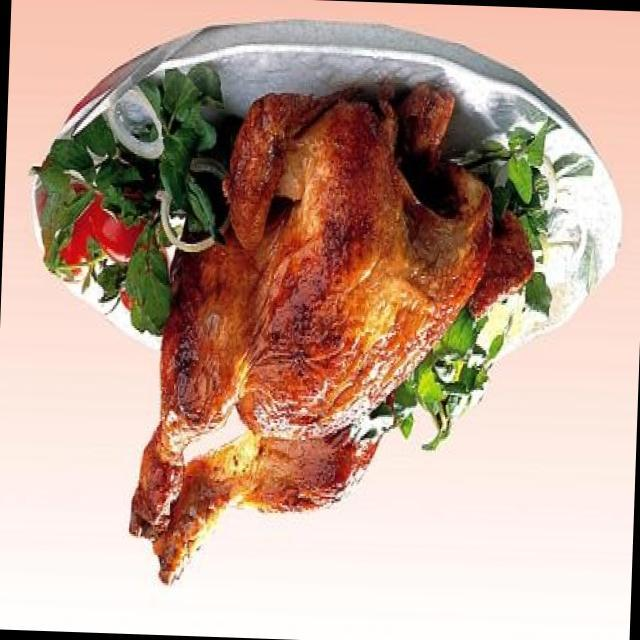Chicken: (110, 81, 504, 601)
